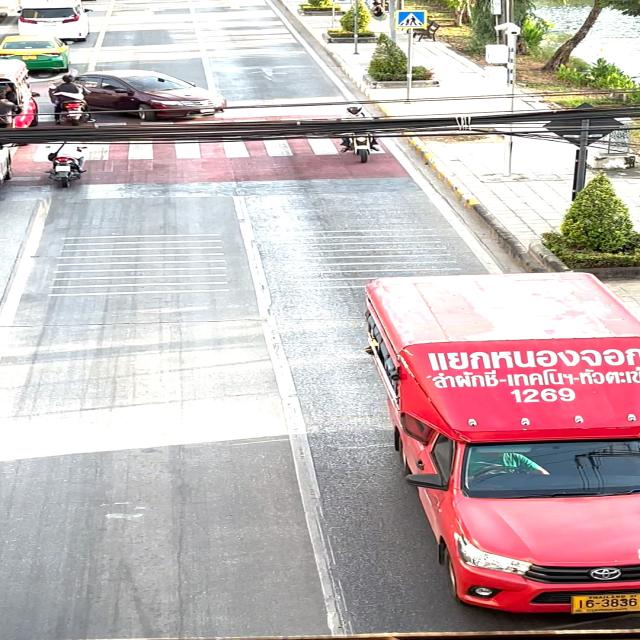car: (335, 254, 640, 634), (77, 59, 226, 132)
